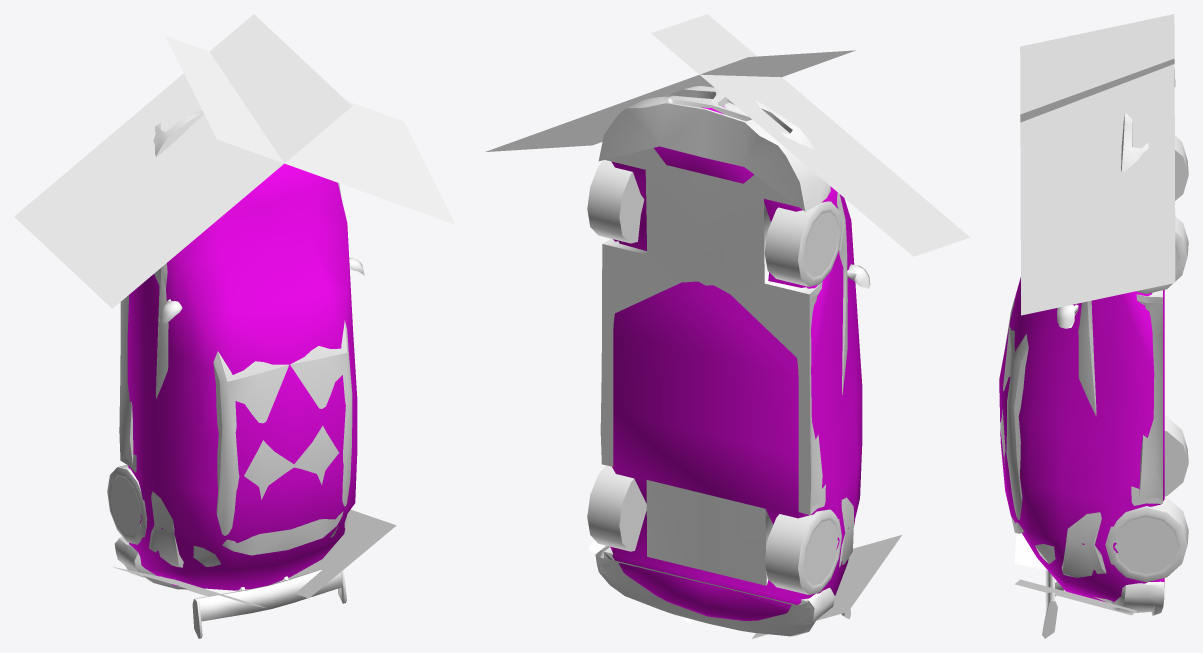
The model's file is Seat.glb.
3 views of the same model, side by side, from view 1: azimuth 30°, elevation 25°; view 2: azimuth 150°, elevation 25°; view 3: azimuth 270°, elevation 25° (orthographic). The views are drawn at different scales.
Visible parts, largest first — view 1: SeatProxy, SeatFrontLights, Seat, SeatRearLights, SeatSpoiler1, SeatWheel_LB, SeatGlass, SeatRearBumper2, SeatFrontBumper2; view 2: SeatProxy, Seat, SeatFrontLights, SeatFrontBumper2, SeatWheel_LB, SeatWheel_LF, SeatRearBumper2, SeatWheel_RB, SeatWheel_RF, SeatRearLights; view 3: SeatFrontLights, SeatProxy, Seat, SeatWheel_RB, SeatWheel_LB, SeatRearLights, SeatRearBumper2, SeatGlass, SeatWheel_RF, SeatFrontBumper2, SeatSpoiler1, SeatWheel_LF.
Part boxes in pixels (x1,y1,x2,y2): SeatProxy: [127, 163, 357, 590]; SeatFrontLights: [14, 14, 455, 308]; Seat: [119, 183, 364, 577]; SeatRearLights: [113, 509, 396, 607]; SeatSpoiler1: [192, 569, 346, 638]; SeatWheel_LB: [107, 465, 147, 544]; SeatGlass: [193, 320, 347, 566]; SeatRearBumper2: [114, 536, 186, 589]; SeatFrontBumper2: [153, 110, 203, 156]; SeatProxy: [610, 106, 862, 620]; Seat: [600, 148, 870, 605]; SeatFrontLights: [485, 14, 969, 256]; SeatFrontBumper2: [598, 86, 830, 211]; SeatWheel_LB: [764, 509, 841, 594]; SeatWheel_LF: [764, 201, 841, 286]; SeatRearBumper2: [595, 545, 834, 636]; SeatWheel_RB: [587, 465, 646, 551]; SeatWheel_RF: [587, 160, 644, 243]; SeatRearLights: [587, 535, 901, 638]; SeatFrontLights: [1020, 14, 1175, 315]; SeatProxy: [999, 277, 1164, 602]; Seat: [1000, 290, 1162, 603]; SeatWheel_RB: [1105, 497, 1188, 582]; SeatWheel_LB: [1164, 416, 1188, 496]; SeatRearLights: [1014, 533, 1136, 615]; SeatRearBumper2: [1112, 582, 1164, 615]; SeatGlass: [1009, 298, 1054, 563]; SeatWheel_RF: [1136, 217, 1188, 293]; SeatFrontBumper2: [1121, 113, 1148, 172]; SeatSpoiler1: [1042, 570, 1063, 638]; SeatWheel_LF: [1175, 135, 1188, 200].
Bounding box in the file's own units: 3.82 × 5.15 × 1.56.
